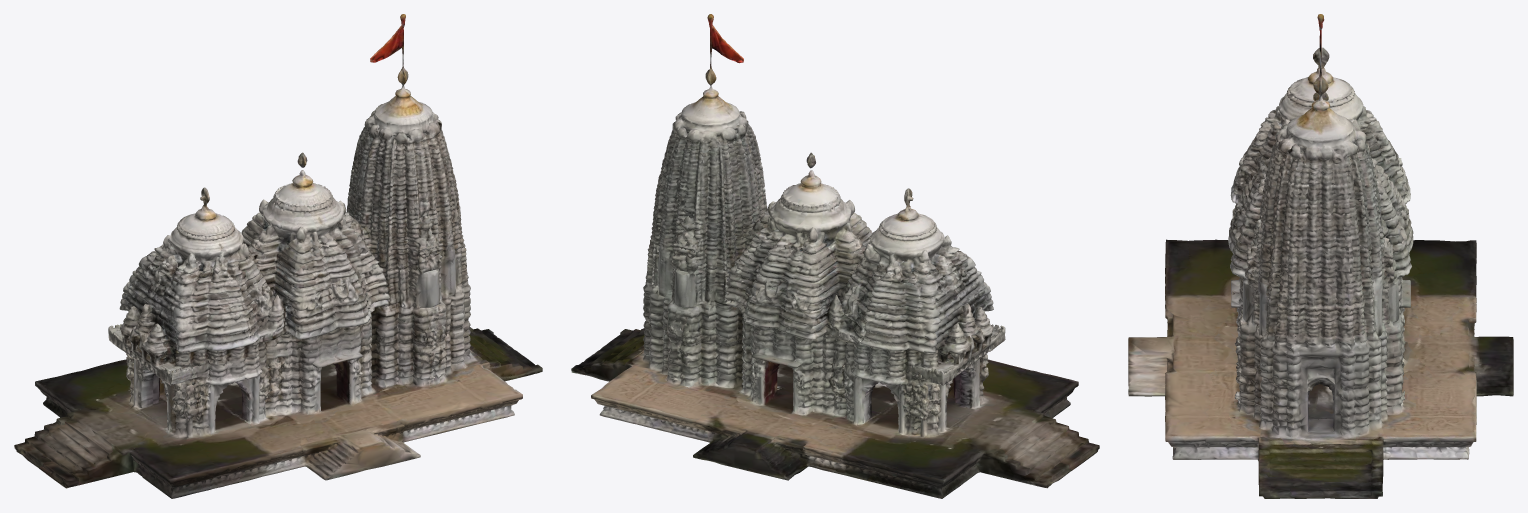
File: Jagannath temple.glb
3 views of the same model, side by side, from view 1: azimuth 30°, elevation 25°; view 2: azimuth 150°, elevation 25°; view 3: azimuth 270°, elevation 25° (orthographic). The views are drawn at different scales.
Bounding box in the file's own units: 1.9 × 1.41 × 1.17.
1 material, 1 textured.
